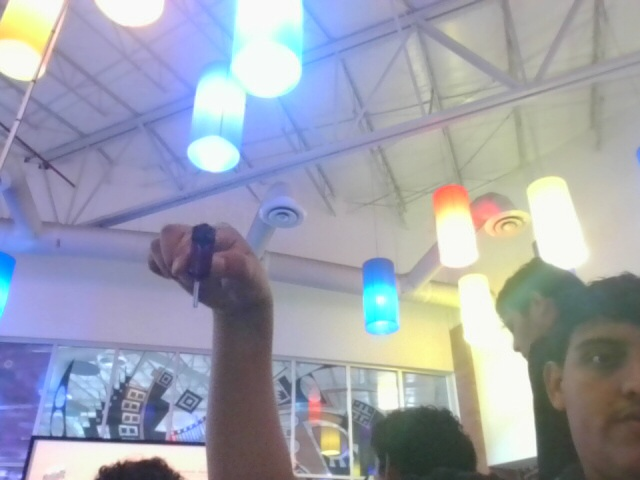destornillador: (188, 222, 215, 309)
